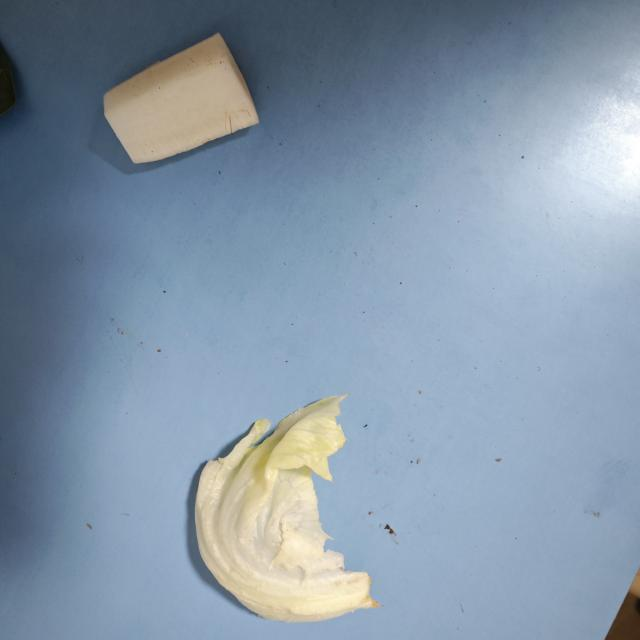-Kitchen waste - vegetable roots and leaves-: (192, 391, 380, 621)
-Kitchen waste - white radish-: (102, 29, 256, 172)
